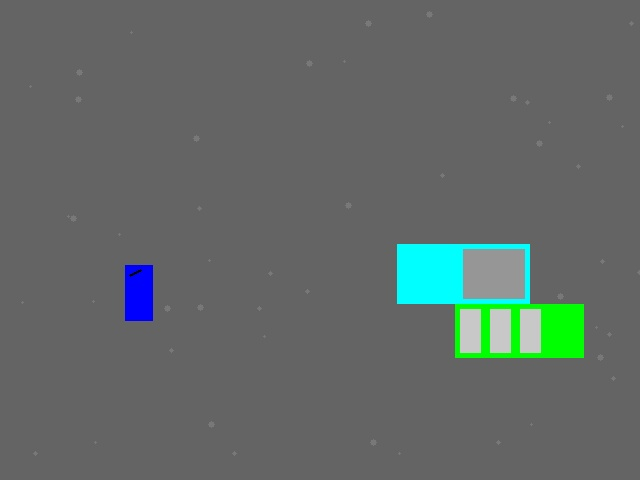bus: (455, 304, 583, 357)
motorcycle: (125, 265, 152, 320)
truck: (397, 244, 529, 303)
